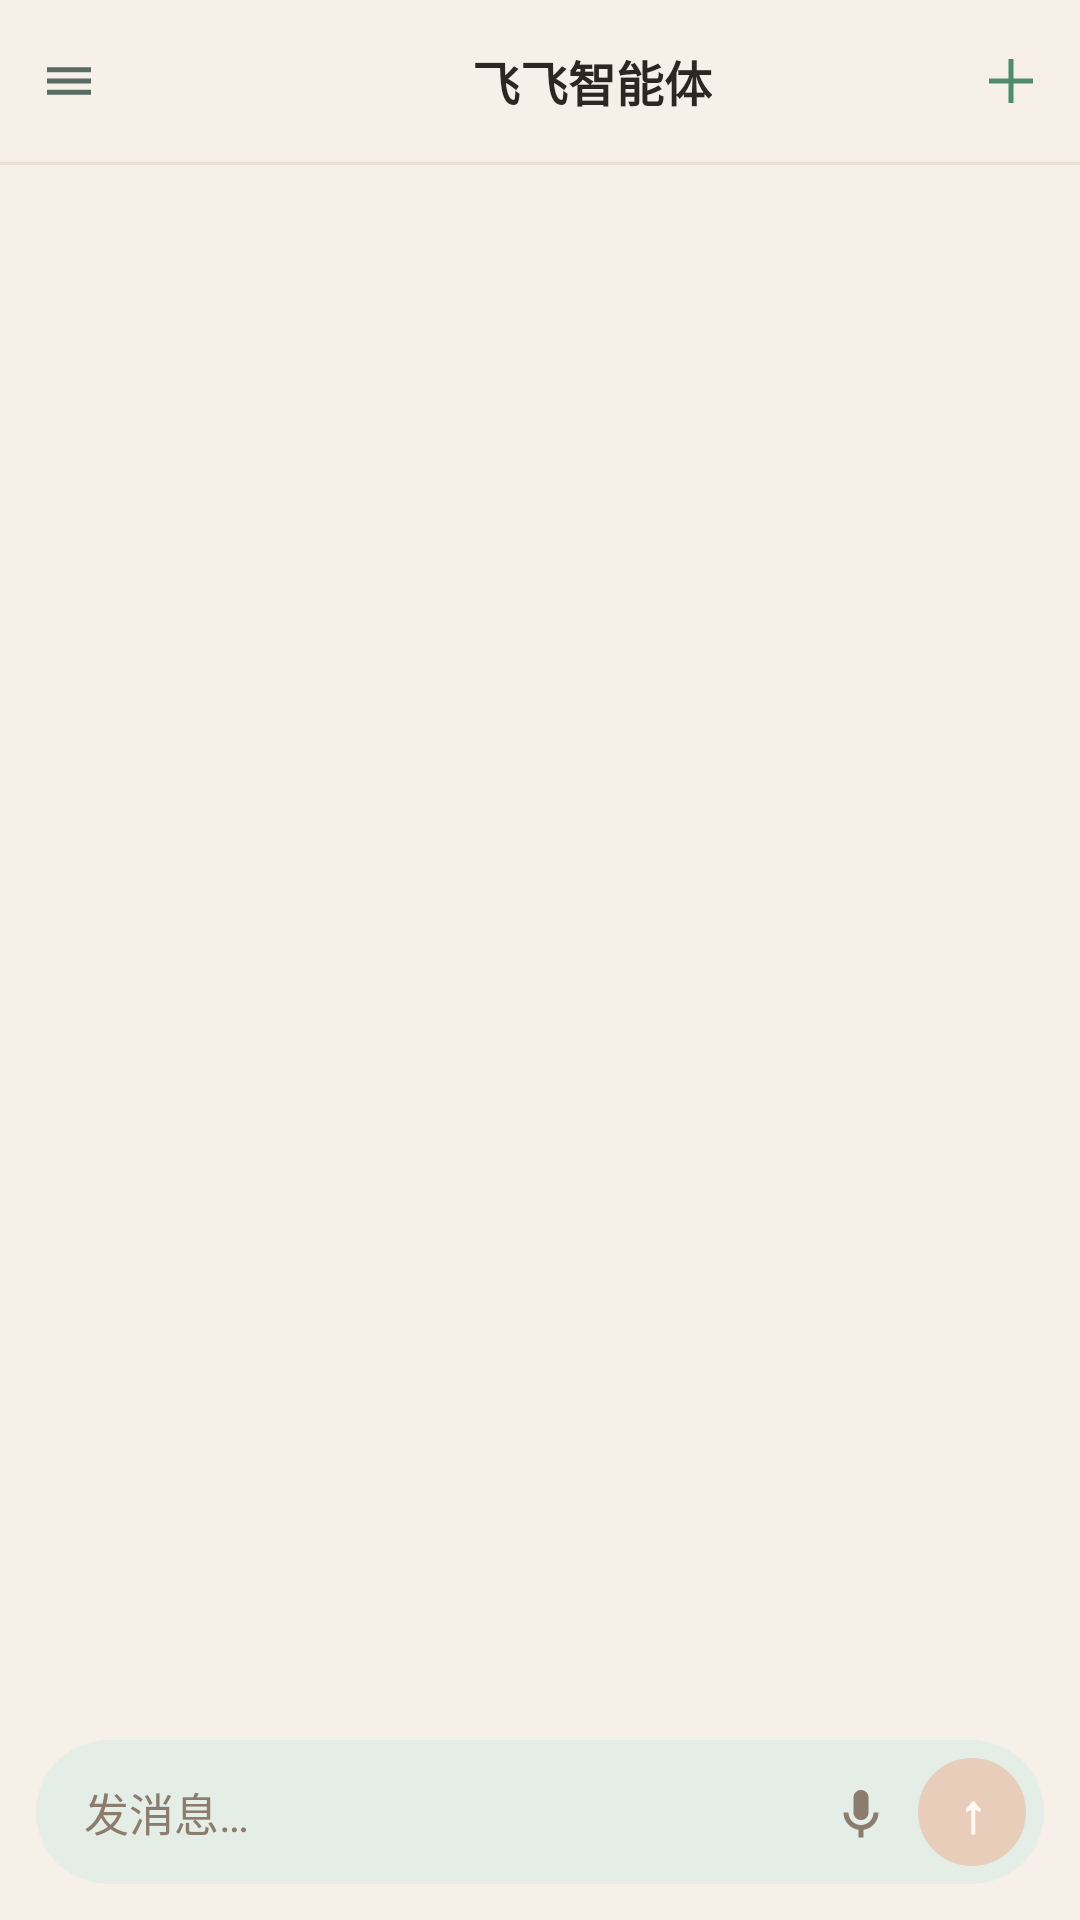

Named icons in this screenshot (1080 x 1920) and their bounding boxes, region(x1, y1, x2, y2):
会话: region(47, 67, 91, 95)
新对话: region(989, 59, 1033, 103)
语音输入: region(843, 1790, 879, 1838)
